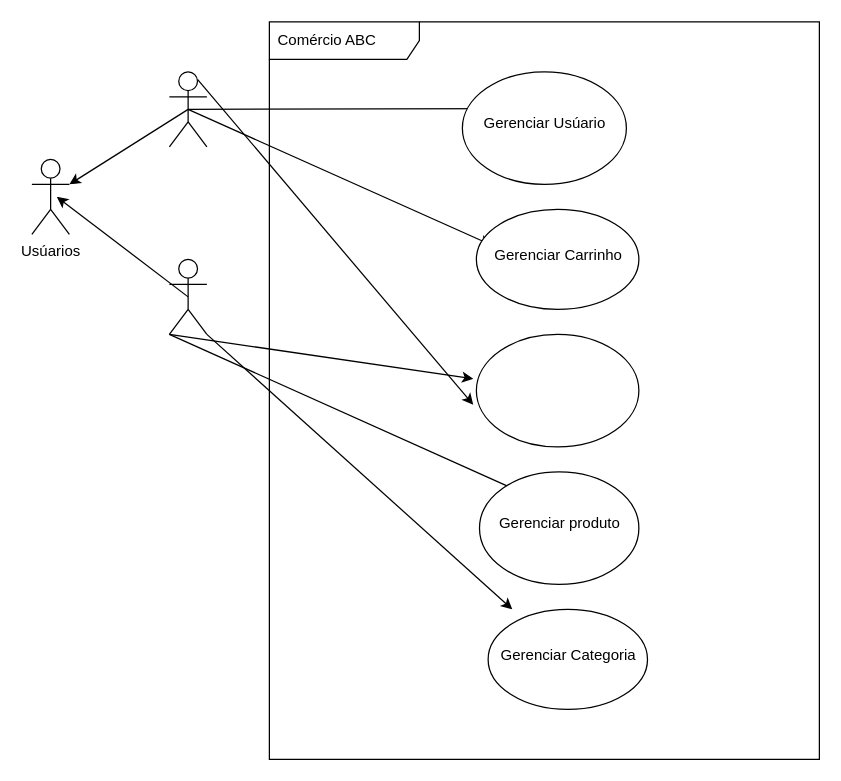
Image size: 841x781. Some labels were removed from this diagram. Each missing label, with the centre of its shape:
"Administrador" belongs at point (187, 296).
"Cliente" belongs at point (187, 109).
"Gerenciar Pedido" belongs at point (557, 390).
